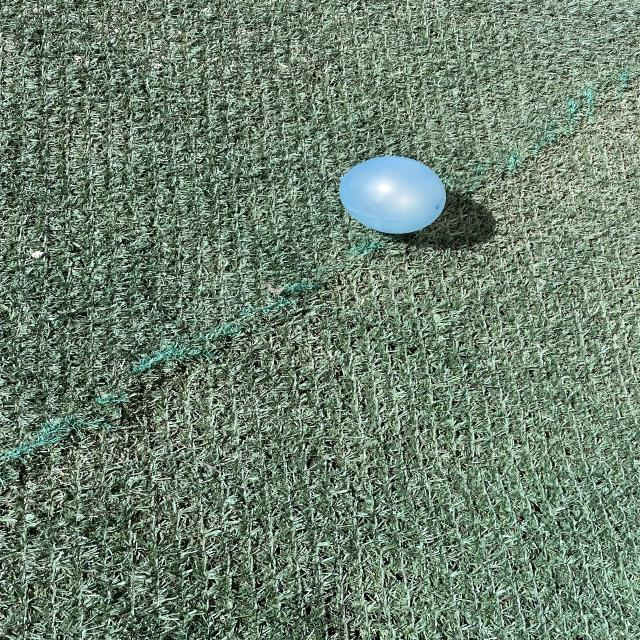balloon: (339, 156, 446, 234)
